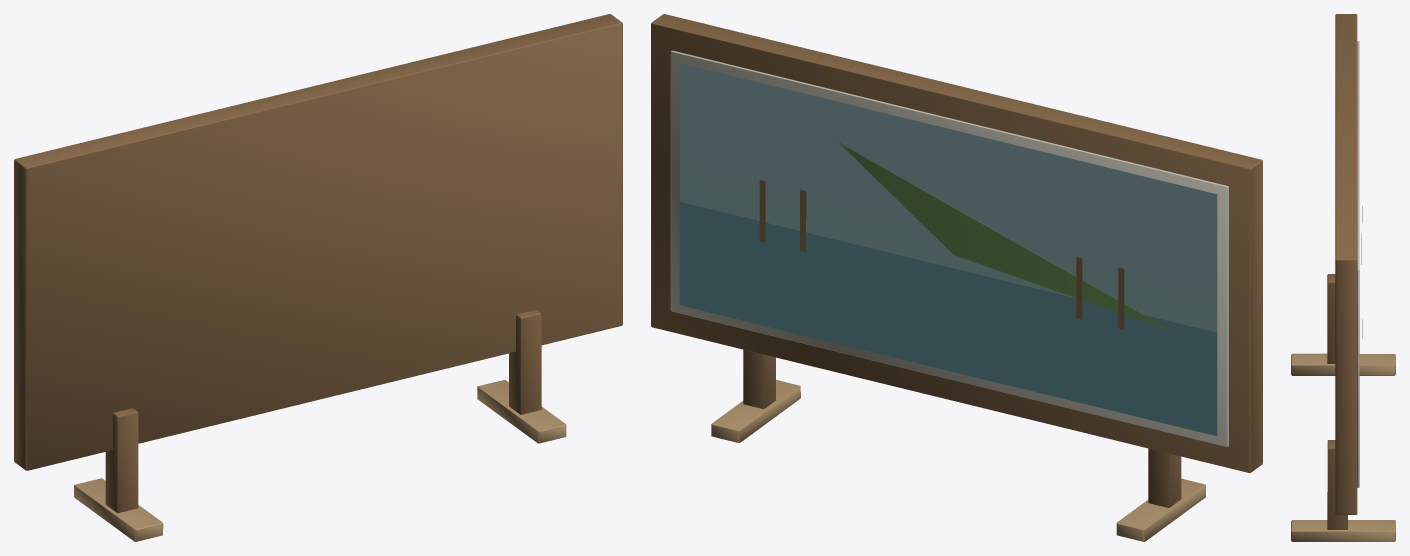
File: mural_stage2.glb
3 renders of one model, left to right at view 1: azimuth 30°, elevation 25°; view 2: azimuth 150°, elevation 25°; view 3: azimuth 270°, elevation 25°, orthographic. The views are drawn at different scales.
Size of the model in its own units: 4 by 2.4 by 0.72.
